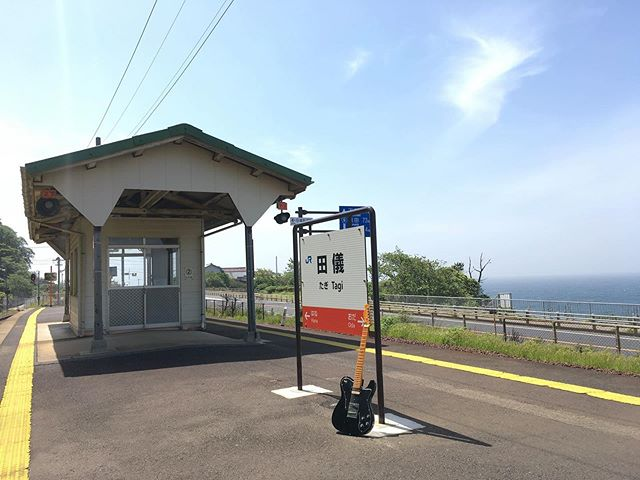building: (35, 132, 297, 362)
guitar: (327, 303, 384, 438)
sea: (473, 273, 640, 314)
sign: (295, 226, 375, 334)
sky: (1, 1, 631, 261)
tree: (377, 247, 491, 305)
